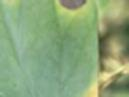Tomato Early blight leaf: (0, 0, 96, 97)
